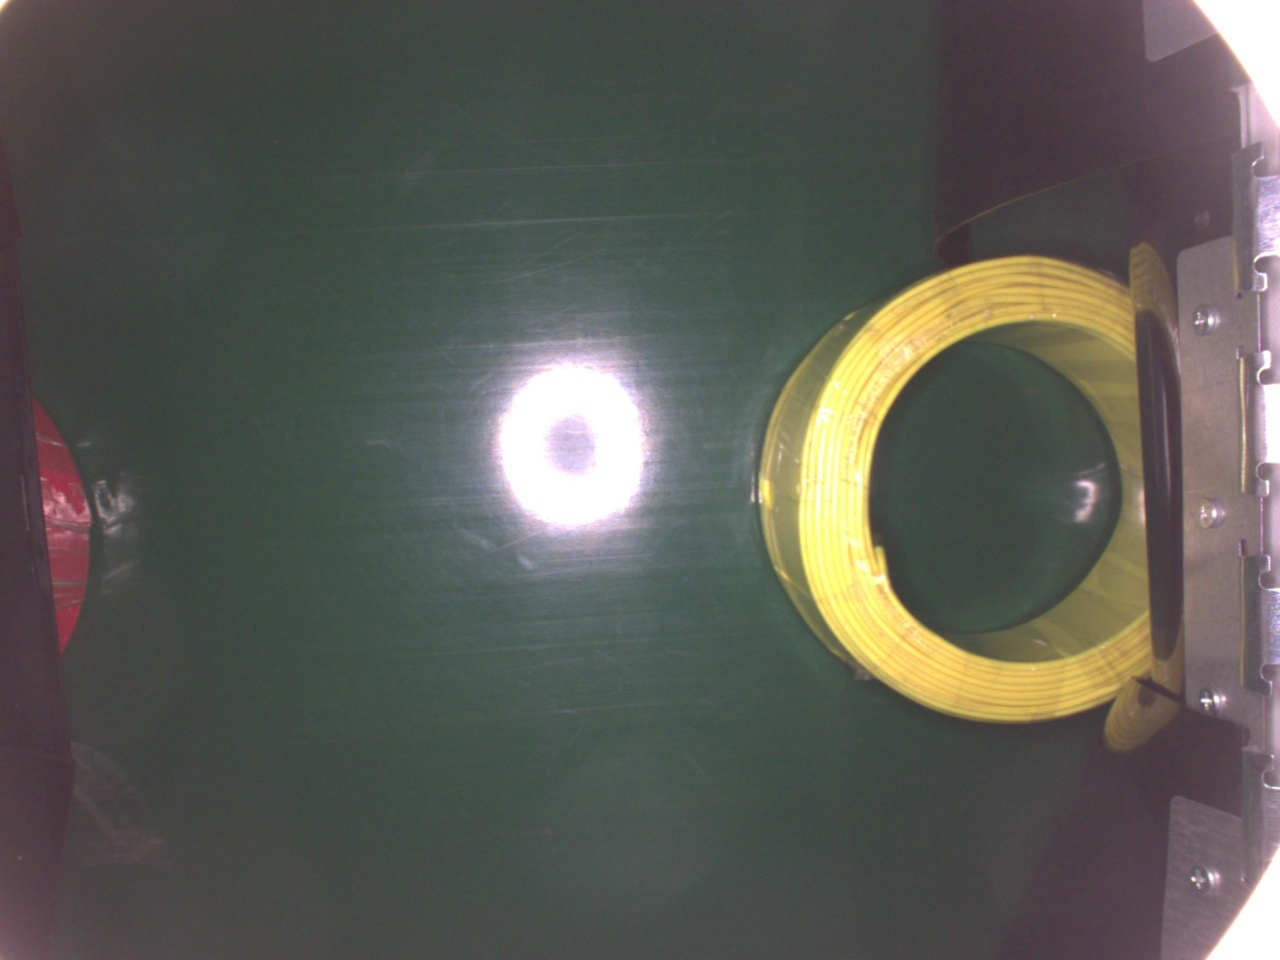yellow: (756, 245, 1154, 721)
